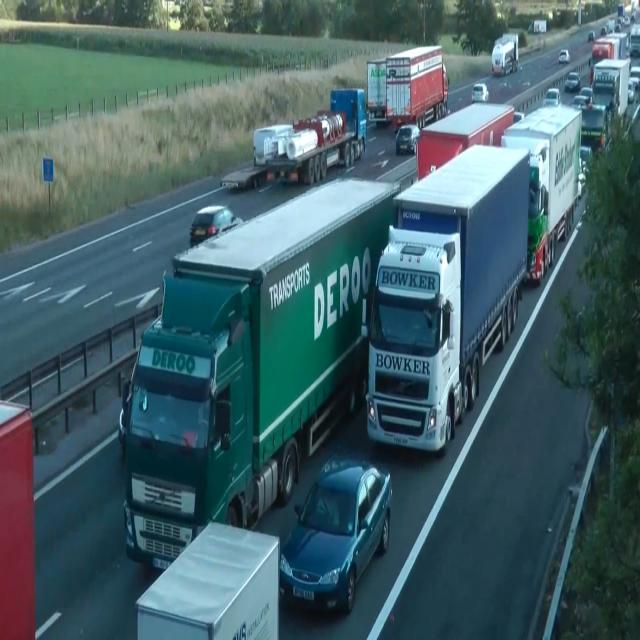bus: (278, 453, 392, 615), (189, 204, 243, 246), (395, 124, 420, 156), (579, 146, 593, 173), (543, 87, 561, 107), (570, 94, 592, 110), (471, 83, 489, 102), (564, 71, 580, 91), (578, 159, 586, 198), (629, 66, 639, 90), (627, 79, 635, 103), (580, 86, 593, 100), (558, 49, 570, 64), (512, 111, 524, 125), (588, 30, 595, 42)
minibus: (118, 173, 404, 571), (364, 143, 530, 454), (135, 520, 280, 639), (500, 103, 584, 285), (220, 87, 366, 191), (0, 398, 36, 639), (415, 102, 517, 182), (385, 44, 449, 132), (591, 57, 631, 125), (589, 32, 628, 86), (366, 57, 388, 123), (491, 32, 519, 76), (626, 24, 640, 56), (528, 18, 546, 34)
